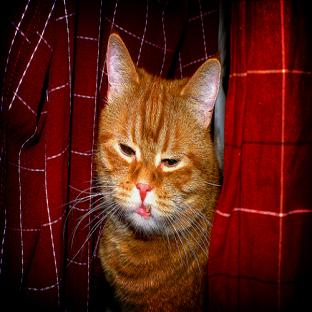Animal: (94, 34, 221, 310)
